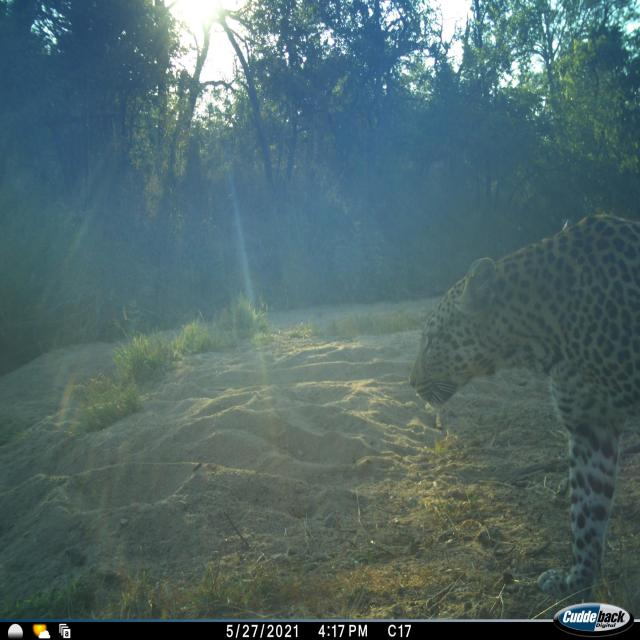Leopard: (400, 202, 640, 609)
